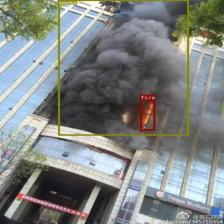fire: (140, 99, 155, 130)
smoke: (57, 0, 188, 135)
